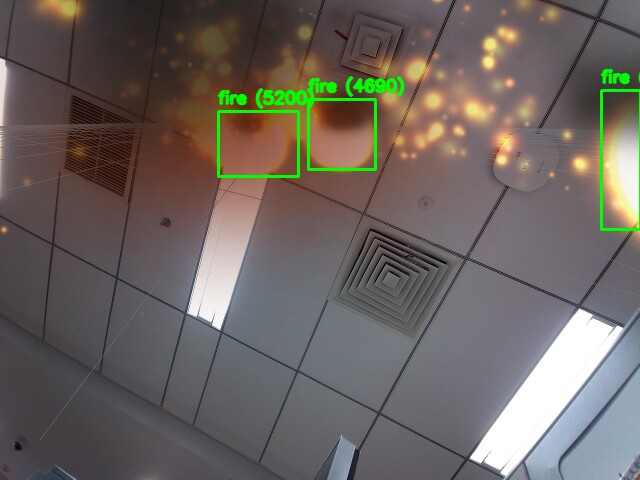fire: (601, 90, 640, 229), (218, 111, 298, 176), (308, 99, 375, 169)
